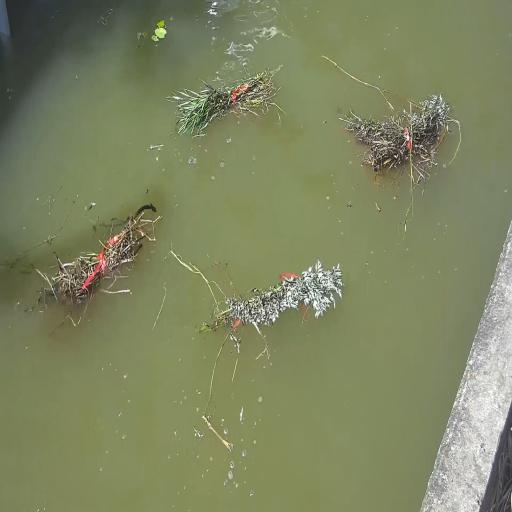twig: (36, 201, 150, 321), (206, 255, 356, 339), (354, 87, 452, 183), (162, 70, 282, 138), (133, 14, 181, 65)
